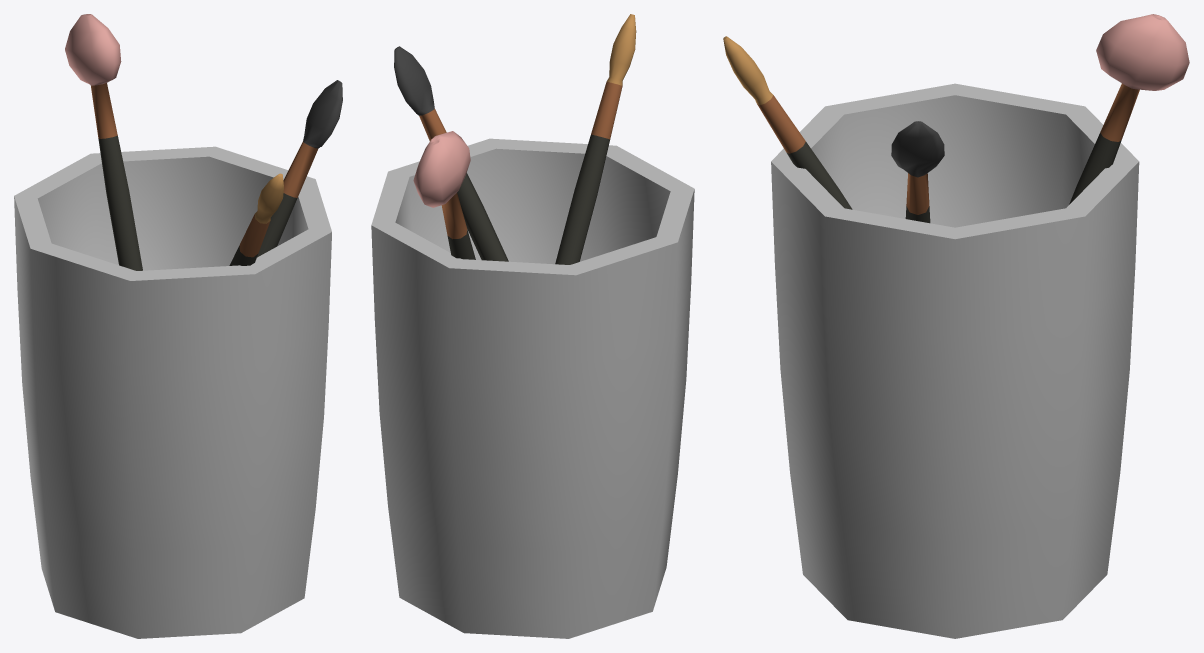
File: mug 1.fbx
3 views of the same model, side by side, from view 1: azimuth 30°, elevation 25°; view 2: azimuth 150°, elevation 25°; view 3: azimuth 270°, elevation 25° (orthographic). The views are drawn at different scales.
Parts seen in each view (by area): view 1: mug 1; view 2: mug 1; view 3: mug 1.
Part boxes in pixels (box(x1,y1,x2,y2)): mug 1: box(14, 14, 342, 638); mug 1: box(371, 14, 694, 638); mug 1: box(723, 14, 1189, 638).
Bounding box in the file's own units: 0.3893 × 0.6361 × 0.4781.
